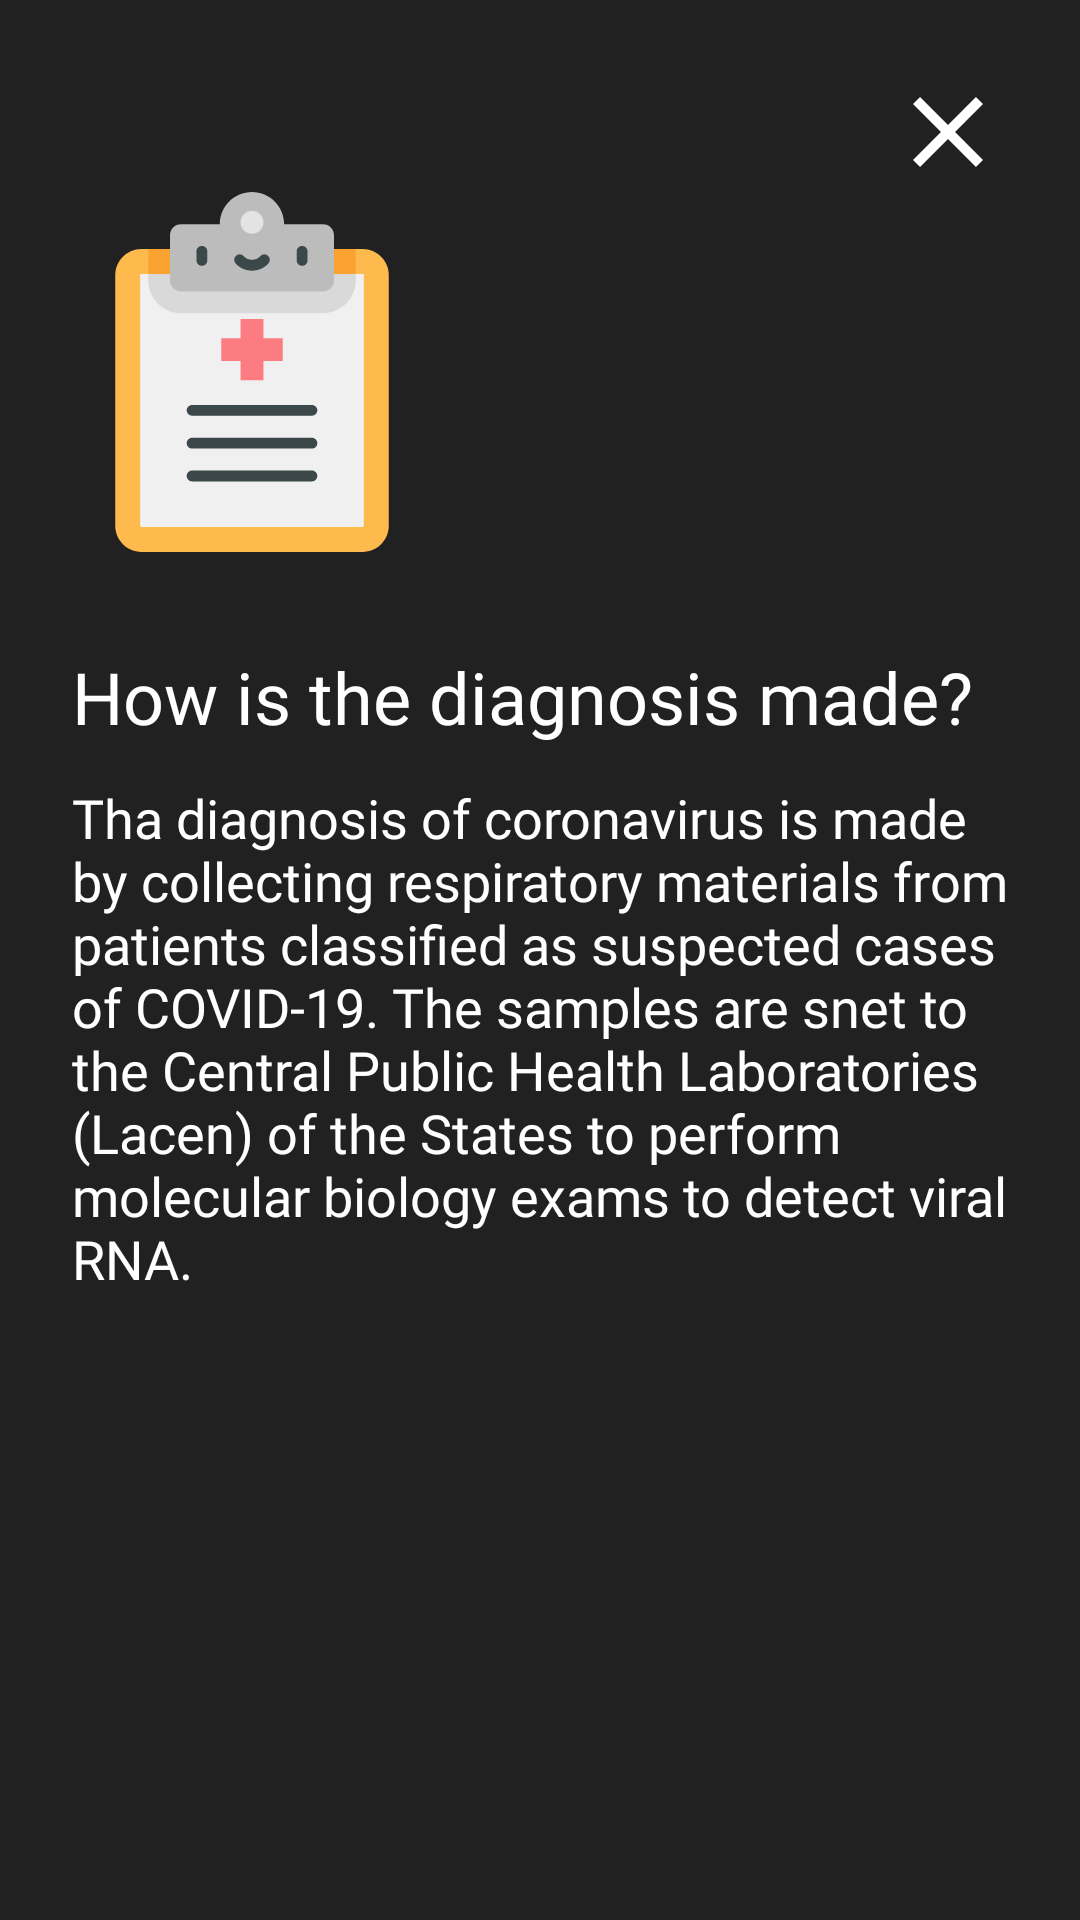

Named icons in this screenshot (1080px×1920px) and their centers, [x,y]:
close: [948,132]
diagnosis detail: [252,372]
